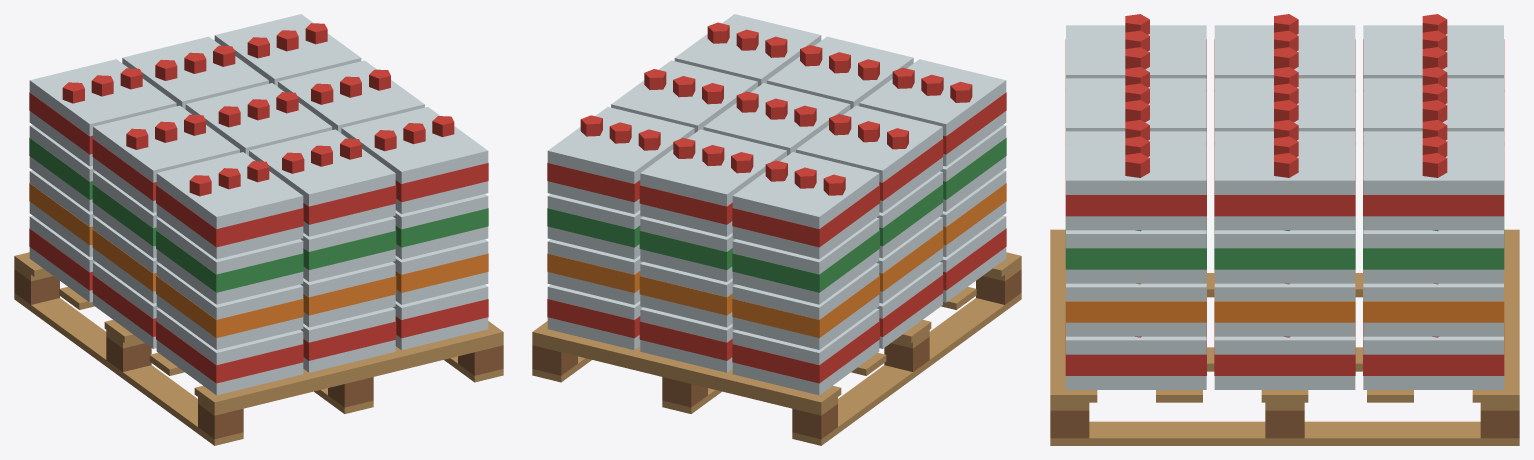
Rendered from Soda_Multipack_Pallet.glb.
3 views of the same model, side by side, from view 1: azimuth 30°, elevation 25°; view 2: azimuth 150°, elevation 25°; view 3: azimuth 270°, elevation 25° (orthographic). The views are drawn at different scales.
Parts seen in each view (by area): view 1: Soda_Multipack_Pallet; view 2: Soda_Multipack_Pallet; view 3: Soda_Multipack_Pallet.
Boxes of the visible parts, box(x1,y1,x2,y2) form: Soda_Multipack_Pallet: box(14, 14, 503, 445); Soda_Multipack_Pallet: box(532, 14, 1021, 445); Soda_Multipack_Pallet: box(1050, 14, 1519, 445).
Bounding box in the file's own units: 1 × 0.774 × 1.2.
Materials: 1 (1 with a texture image).
